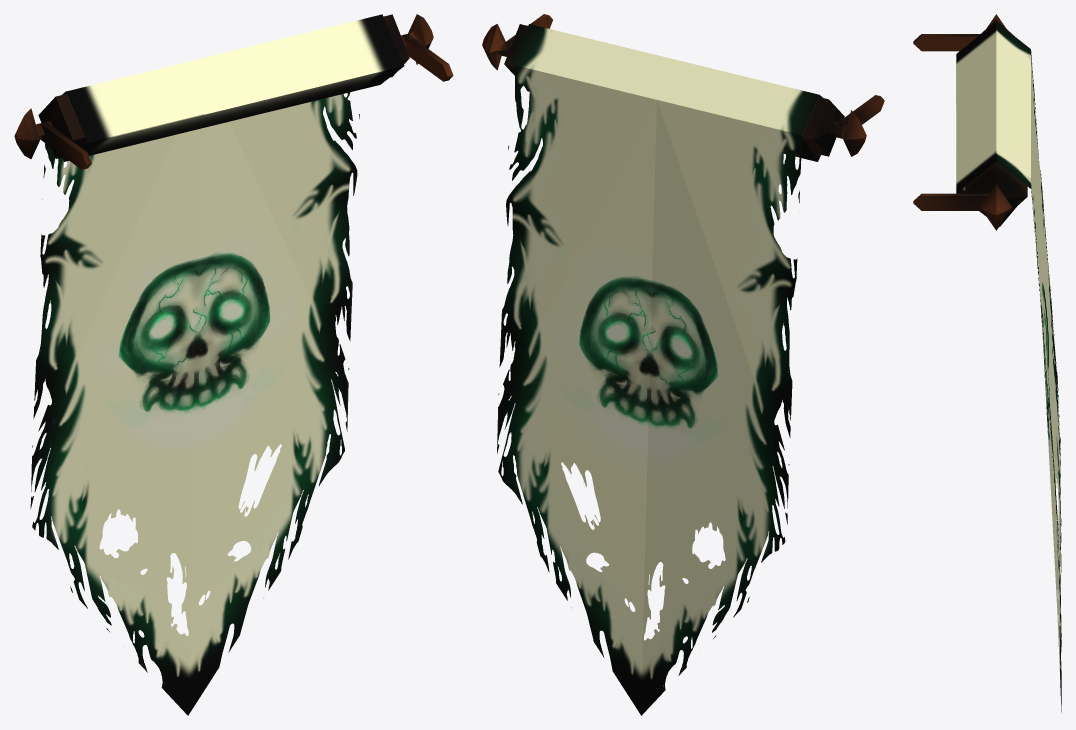
Rendered from banner.obj.
The picture shows the model from 3 angles, left to right: view 1: azimuth 30°, elevation 25°; view 2: azimuth 150°, elevation 25°; view 3: azimuth 270°, elevation 25°; orthographic projection. The views are drawn at different scales.
Parts seen in each view (by area): view 1: Estandarte_Cube.006; view 2: Estandarte_Cube.006; view 3: Estandarte_Cube.006.
Part boxes in pixels (bbox=[...]): Estandarte_Cube.006: bbox=[14, 14, 453, 715]; Estandarte_Cube.006: bbox=[482, 14, 884, 715]; Estandarte_Cube.006: bbox=[913, 14, 1061, 712].
Bounding box in the file's own units: 3.76 × 5.93 × 1.28.
